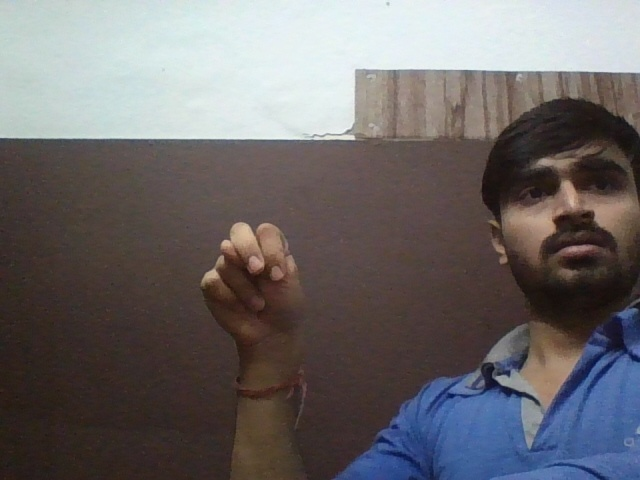M: (178, 216, 327, 345)
